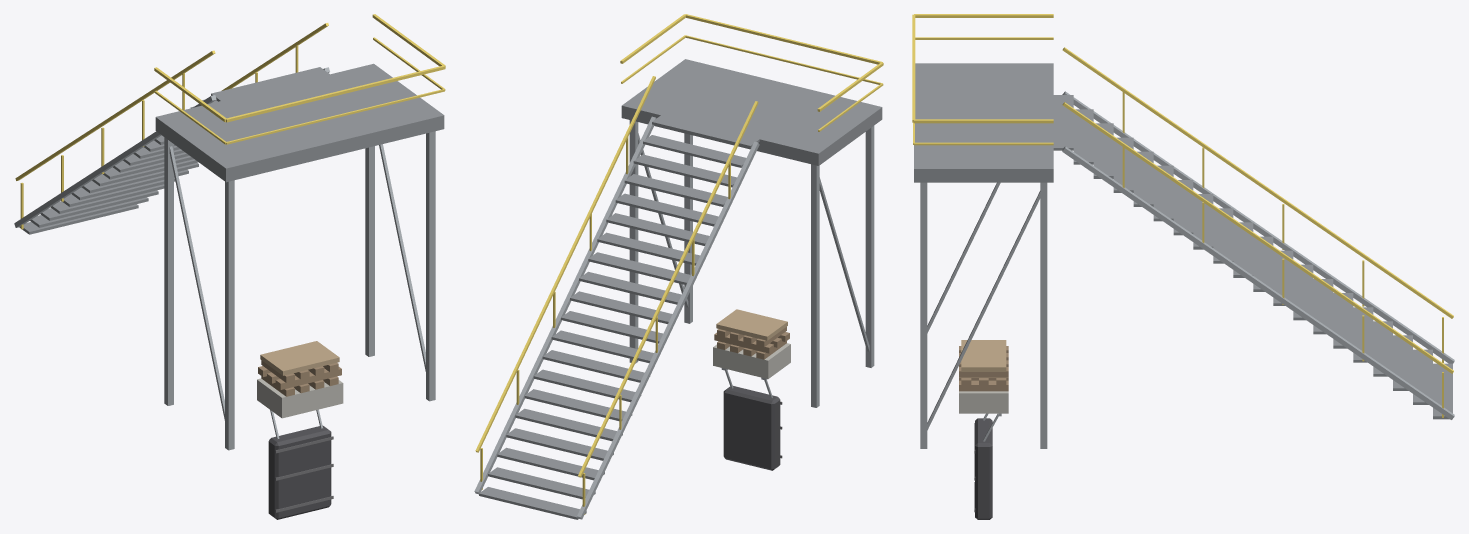
File: dry_dock.glb
3 renders of one model, left to right at view 1: azimuth 30°, elevation 25°; view 2: azimuth 150°, elevation 25°; view 3: azimuth 270°, elevation 25°, orthographic. The views are drawn at different scales.
Parts seen in each view (by area): view 1: wd_stairs_mesh, wd_fender_mesh, wd_keelblock_mesh; view 2: wd_stairs_mesh, wd_fender_mesh, wd_keelblock_mesh; view 3: wd_stairs_mesh, wd_keelblock_mesh, wd_fender_mesh.
Part boxes in pixels (<box>): wd_stairs_mesh: <box>14,14,445,450</box>; wd_fender_mesh: <box>268,409,333,519</box>; wd_keelblock_mesh: <box>257,341,343,418</box>; wd_stairs_mesh: <box>474,14,883,519</box>; wd_fender_mesh: <box>721,368,782,470</box>; wd_keelblock_mesh: <box>713,309,790,378</box>; wd_stairs_mesh: <box>912,14,1454,448</box>; wd_keelblock_mesh: <box>959,340,1008,413</box>; wd_fender_mesh: <box>974,413,1001,519</box>.
Size of the model in its own units: 5.06 by 9.73 by 10.86.
